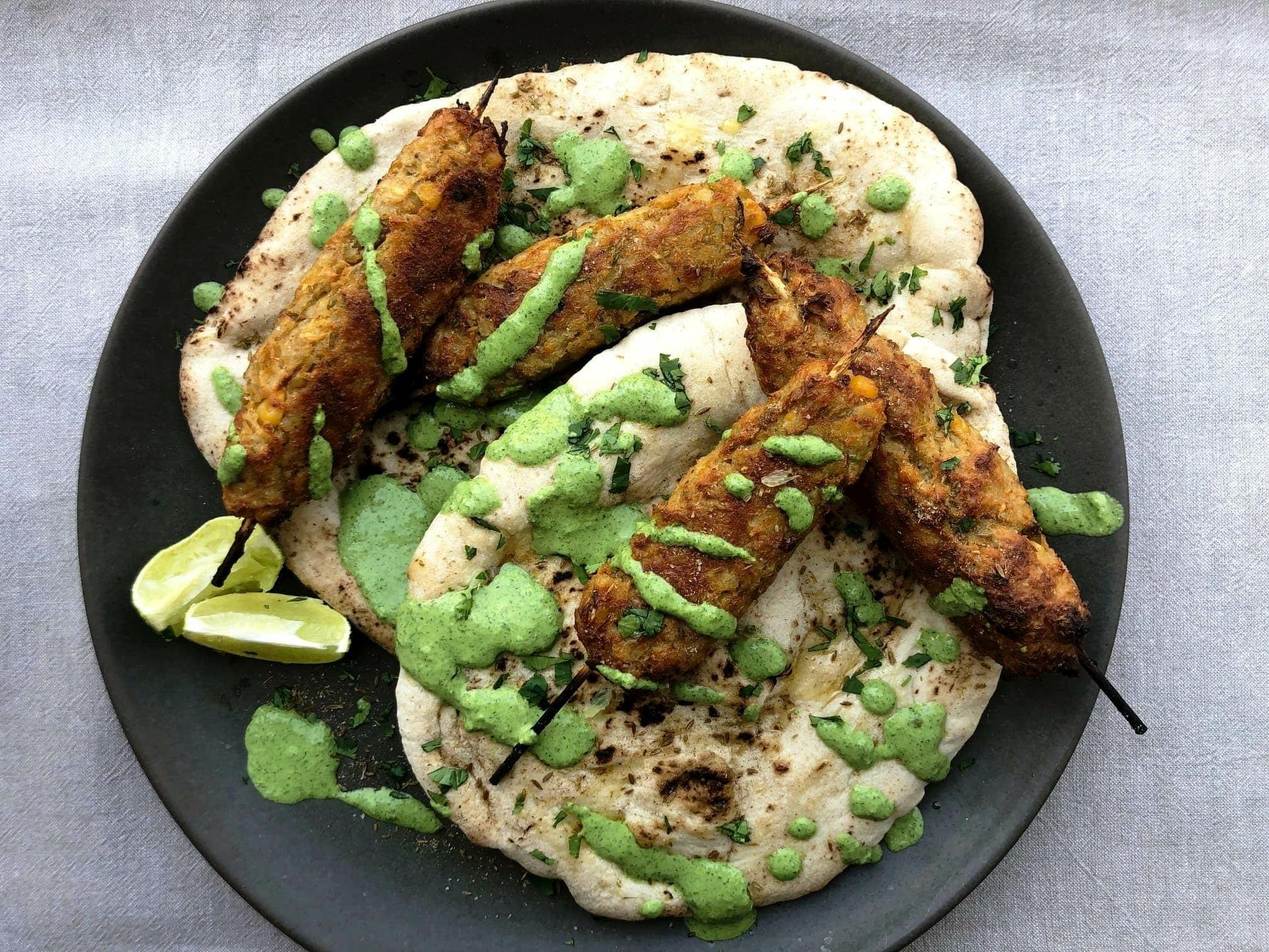Kebab: (748, 257, 1102, 665), (219, 105, 508, 518), (578, 367, 884, 670), (433, 178, 752, 397)
